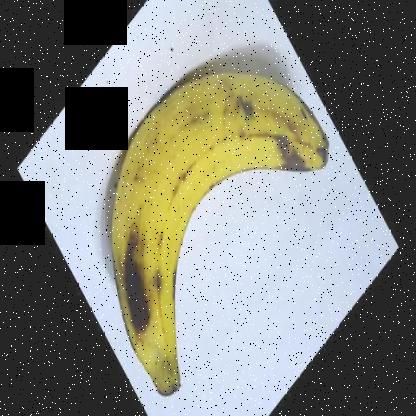ripe: (99, 62, 335, 408)
